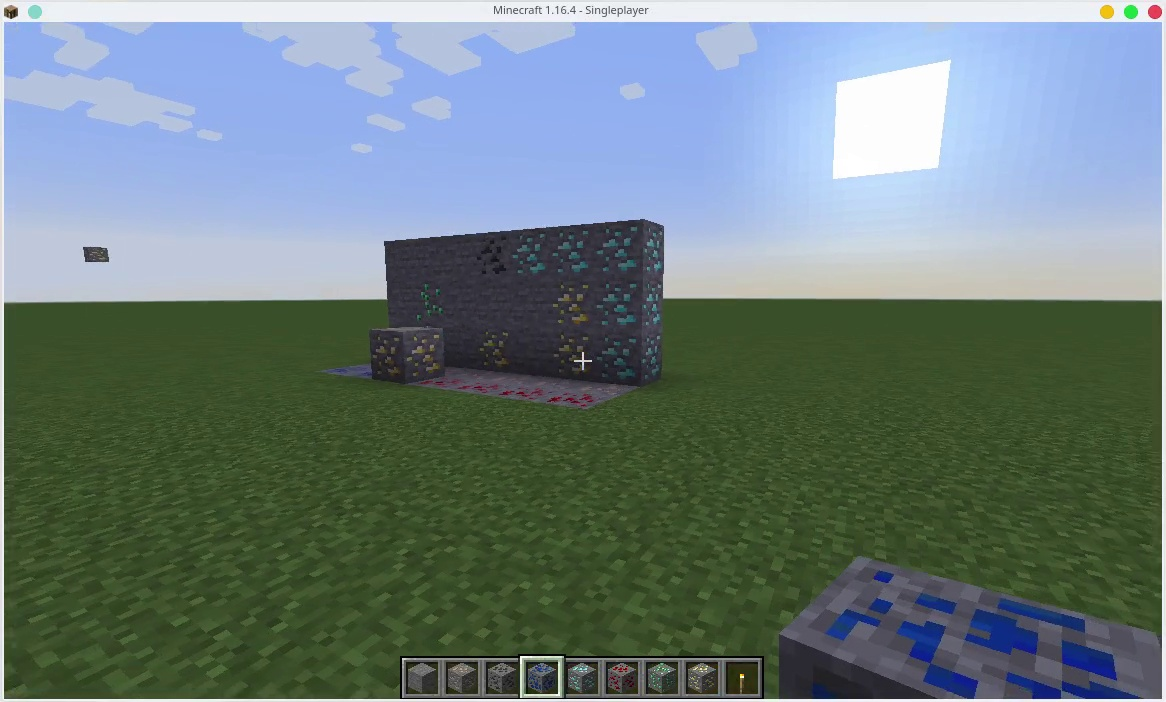gold: (368, 326, 442, 380), (546, 285, 590, 333), (550, 334, 592, 379), (473, 334, 514, 366), (688, 664, 718, 694)
